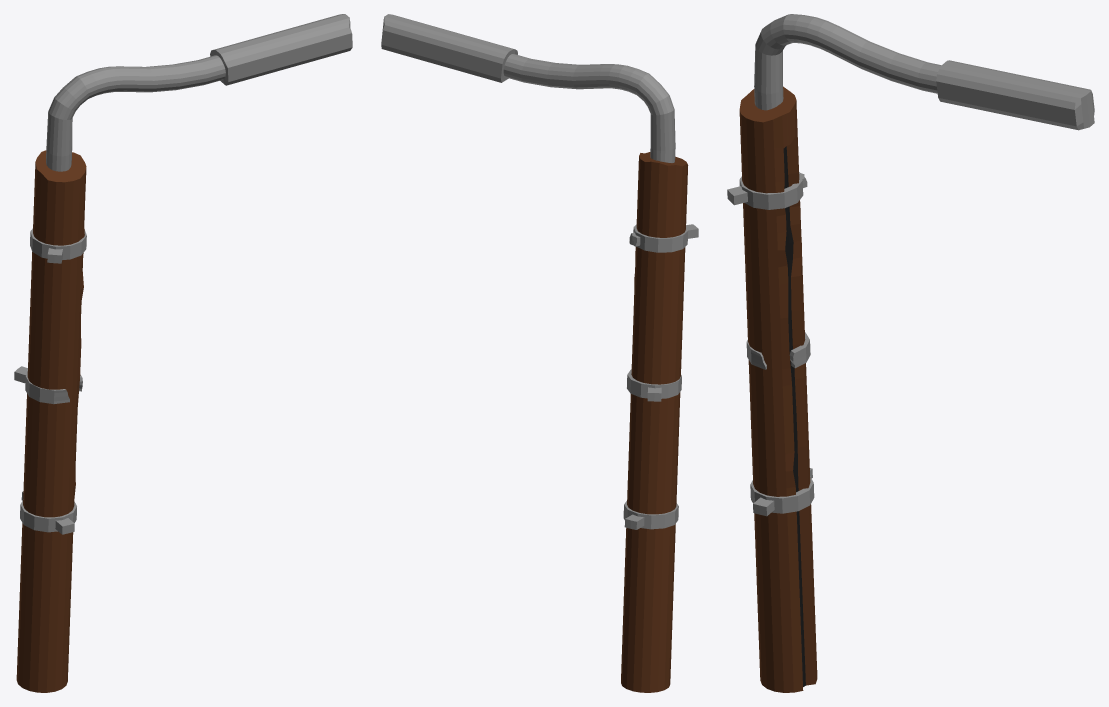
File: stolb.fbx
The picture shows the model from 3 angles, left to right: view 1: azimuth 30°, elevation 25°; view 2: azimuth 150°, elevation 25°; view 3: azimuth 330°, elevation 25°; orthographic projection. The views are drawn at different scales.
Parts seen in each view (by area): view 1: Окружность, Куб.059, Окружность.059; view 2: Окружность, Куб.059, Окружность.059; view 3: Окружность, Куб.059, Окружность.059.
Part boxes in pixels (x1,y1,x2,y2): Окружность: (16, 150, 86, 692); Куб.059: (46, 14, 352, 171); Окружность.059: (14, 228, 86, 534); Окружность: (621, 152, 688, 692); Куб.059: (381, 14, 675, 162); Окружность.059: (623, 224, 698, 529); Окружность: (739, 86, 817, 692); Куб.059: (754, 14, 1094, 130); Окружность.059: (727, 172, 814, 516).
Size of the model in its own units: 275 by 517 by 75.04.
